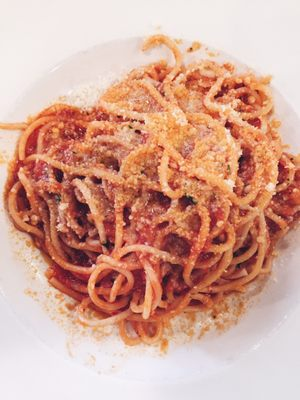sushi: (2, 34, 294, 355)
